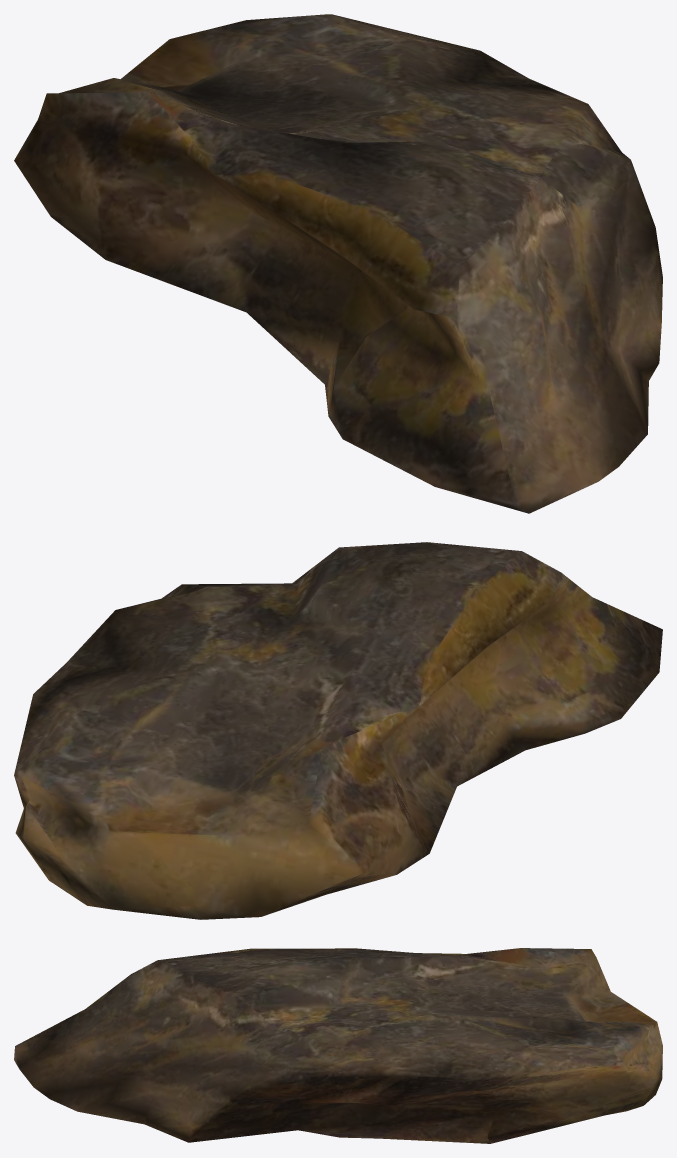
File: rock_09.glb
3 renders of one model, top to bottom at view 1: azimuth 30°, elevation 25°; view 2: azimuth 150°, elevation 25°; view 3: azimuth 270°, elevation 25°, orthographic. The views are drawn at different scales.
Visible parts, largest first — view 1: rock_09_LOD0; view 2: rock_09_LOD0; view 3: rock_09_LOD0.
Part boxes in pixels (bbox=[...]): rock_09_LOD0: bbox=[14, 14, 662, 513]; rock_09_LOD0: bbox=[14, 542, 662, 919]; rock_09_LOD0: bbox=[14, 948, 662, 1143].
Size of the model in its own units: 0.0738 by 0.0319 by 0.1429.
1 material, 1 textured.
